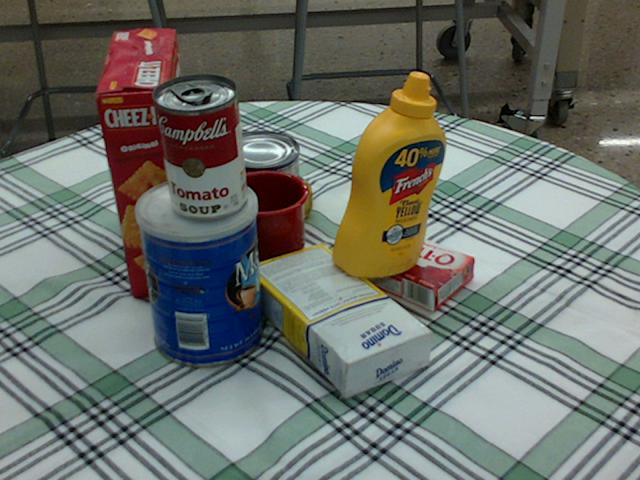cracker_box: (93, 31, 200, 295)
gelatin_box: (360, 231, 473, 312)
master_chef_can: (133, 175, 264, 368)
mug: (195, 169, 307, 277)
mustard_bottle: (332, 71, 445, 277)
potted_meat_can: (196, 148, 308, 234)
sugar_box: (245, 243, 434, 394)
tomato_soup_can: (152, 72, 245, 218)
tuna_fish_can: (219, 131, 299, 194)
